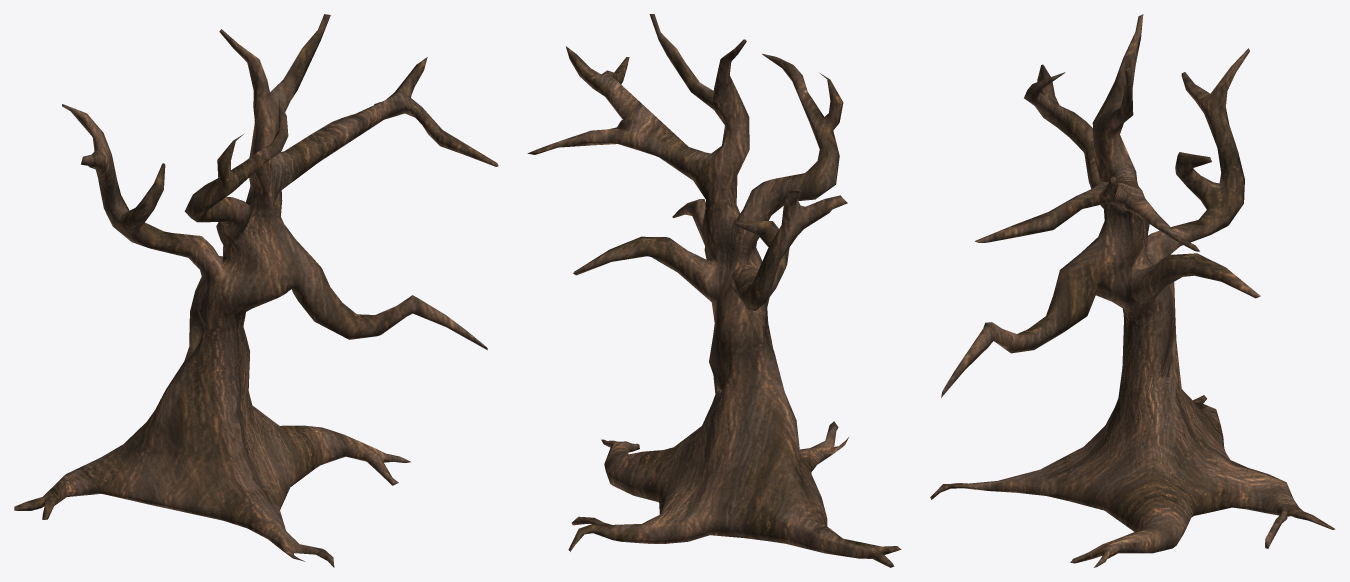
File: tree_dry_01.glb
The picture shows the model from 3 angles, left to right: view 1: azimuth 30°, elevation 25°; view 2: azimuth 150°, elevation 25°; view 3: azimuth 270°, elevation 25°; orthographic projection. The views are drawn at different scales.
Parts seen in each view (by area): view 1: arbol.001_arbold_0; view 2: arbol.001_arbold_0; view 3: arbol.001_arbold_0.
Boxes of the visible parts, box(x1,y1,x2,y2) form: arbol.001_arbold_0: box(14, 14, 498, 567); arbol.001_arbold_0: box(527, 14, 901, 567); arbol.001_arbold_0: box(930, 14, 1335, 567).
Size of the model in its own units: 5.47 by 6.5 by 4.97.
1 material, 1 textured.
